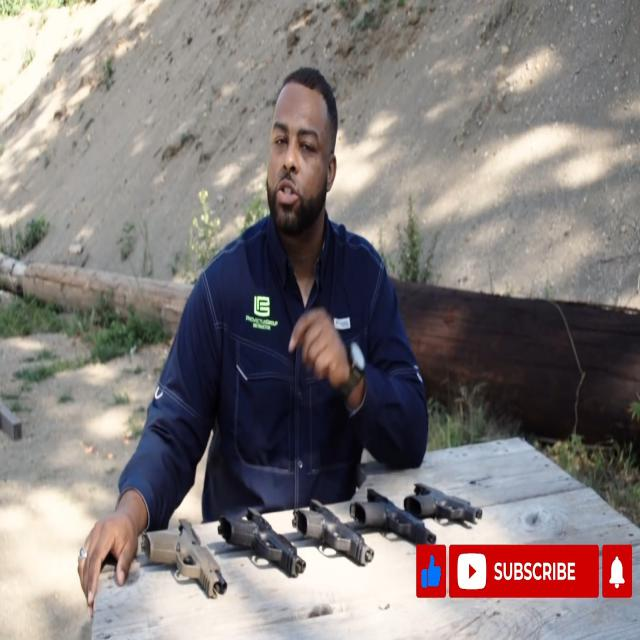handgun: (135, 516, 240, 610), (218, 498, 315, 590), (291, 491, 384, 569), (352, 479, 438, 562), (399, 470, 492, 541)
